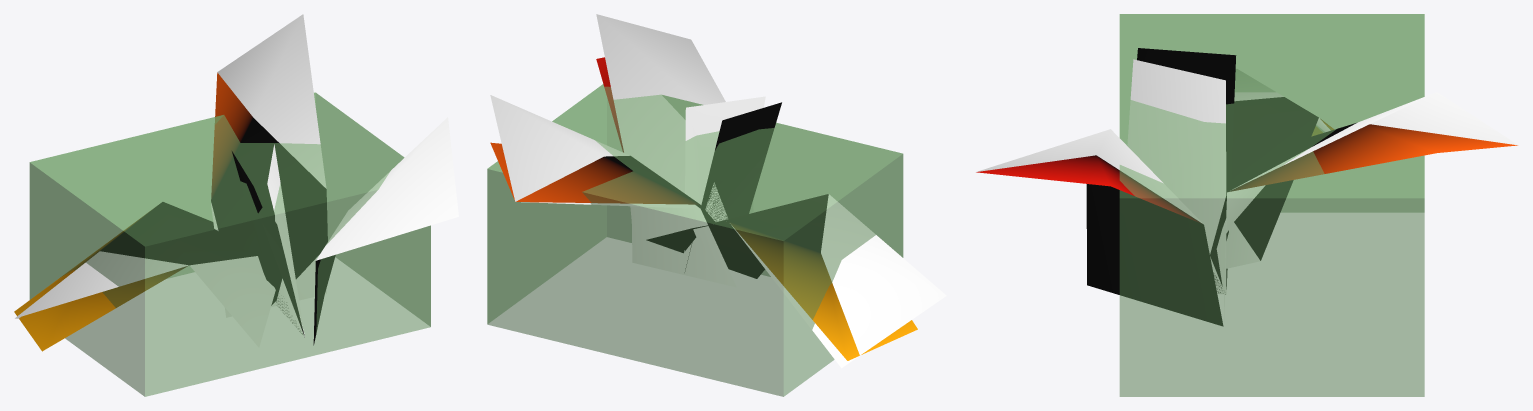
File: lush_ferns_01_a.dae
3 views of the same model, side by side, from view 1: azimuth 30°, elevation 25°; view 2: azimuth 150°, elevation 25°; view 3: azimuth 270°, elevation 25° (orthographic). The views are drawn at different scales.
Visible parts, largest first — view 1: Colmesh-1, fern_large_01_a150, fern_large_01_a200; view 2: Colmesh-1, fern_large_01_a150, fern_large_01_a200; view 3: Colmesh-1, fern_large_01_a200, fern_large_01_a150.
Part boxes in pixels (box(x1,y1,x2,y2)): Colmesh-1: box(29, 92, 430, 396); fern_large_01_a150: box(15, 14, 458, 347); fern_large_01_a200: box(14, 72, 335, 351); Colmesh-1: box(487, 84, 903, 396); fern_large_01_a150: box(490, 14, 946, 368); fern_large_01_a200: box(490, 57, 917, 360); Colmesh-1: box(1119, 14, 1424, 396); fern_large_01_a200: box(976, 48, 1517, 326); fern_large_01_a150: box(975, 59, 1517, 322).
Bounding box in the file's own units: 1.84 × 1.7 × 1.04.
